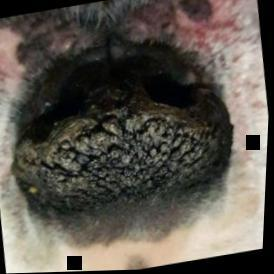keratosis: (4, 55, 248, 231)
